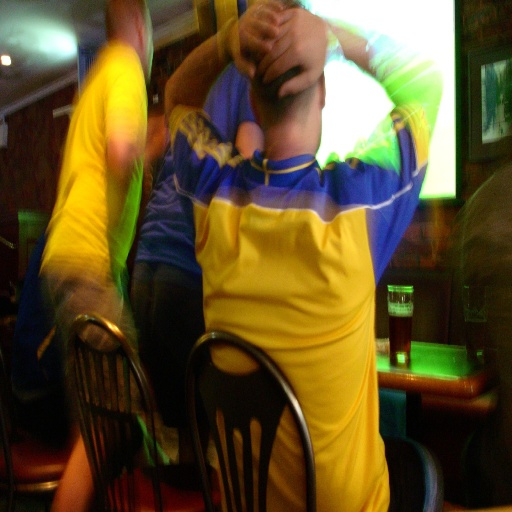hand: (255, 1, 328, 96), (226, 0, 284, 80)
